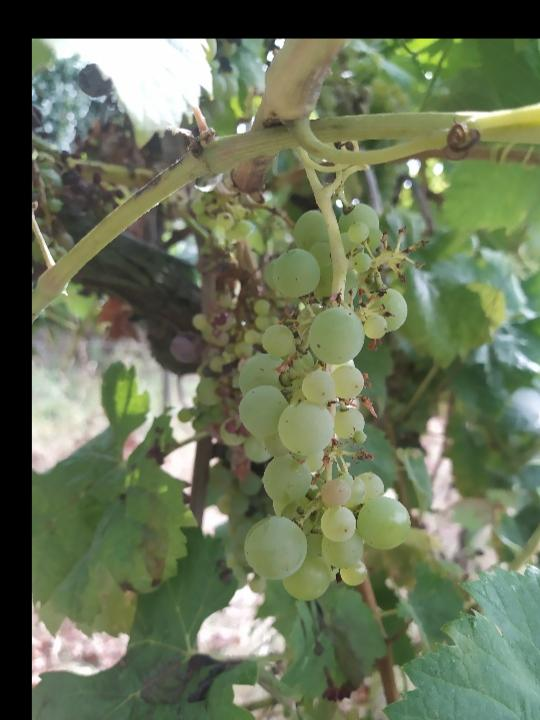grape: (234, 198, 413, 604)
